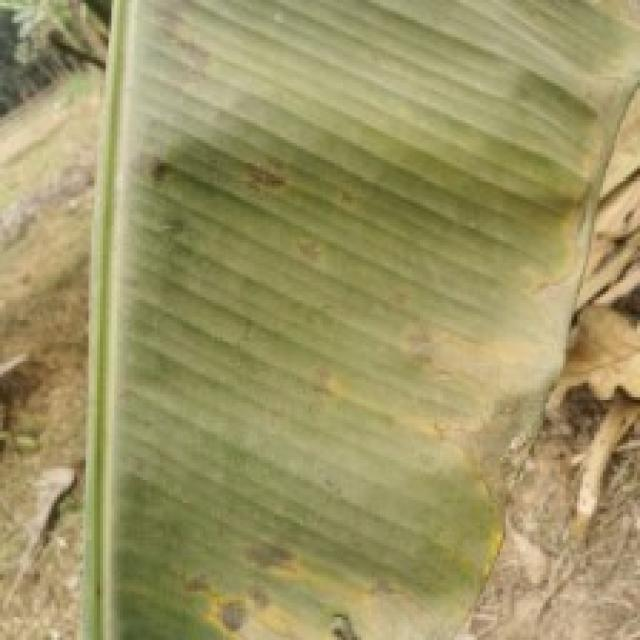Downey_mildrew: (280, 225, 585, 640), (125, 505, 421, 640), (124, 110, 296, 222)
